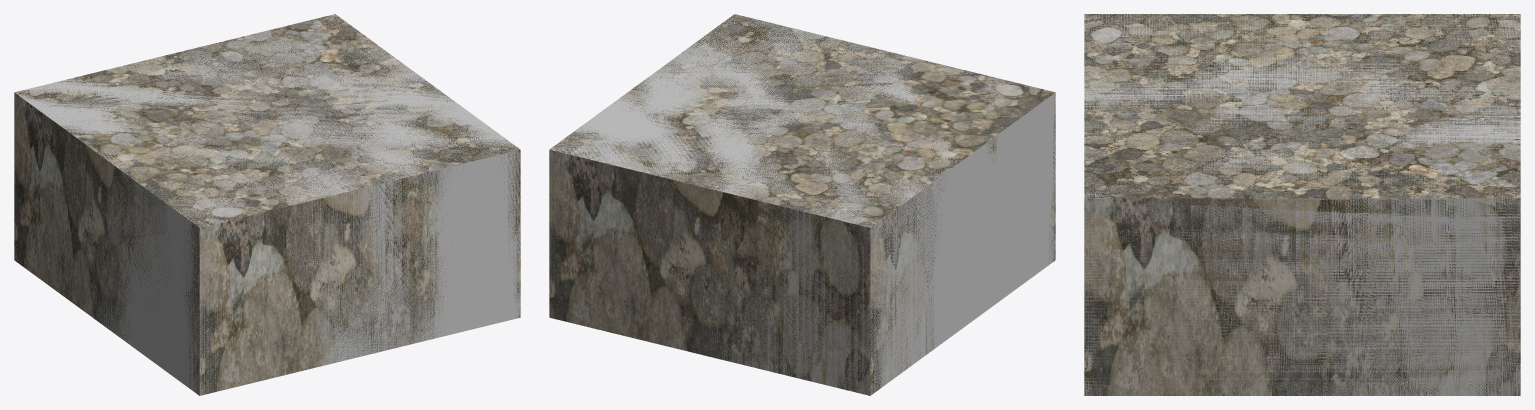
3 renders of one model, left to right at view 1: azimuth 30°, elevation 25°; view 2: azimuth 150°, elevation 25°; view 3: azimuth 270°, elevation 25°, orthographic. The views are drawn at different scales.
Visible parts, largest first — view 1: SM_Floor_2x2, SM_Floor_2x2_ConvexHulls; view 2: SM_Floor_2x2, SM_Floor_2x2_ConvexHulls; view 3: SM_Floor_2x2, SM_Floor_2x2_ConvexHulls.
Part boxes in pixels (bbox=[...]): SM_Floor_2x2: bbox=[14, 14, 520, 395]; SM_Floor_2x2_ConvexHulls: bbox=[14, 14, 520, 395]; SM_Floor_2x2: bbox=[549, 14, 1055, 395]; SM_Floor_2x2_ConvexHulls: bbox=[549, 14, 1055, 395]; SM_Floor_2x2: bbox=[1084, 14, 1520, 395]; SM_Floor_2x2_ConvexHulls: bbox=[1084, 14, 1520, 395].
Size of the model in its own units: 200 by 200 by 100.
Materials: 2 (1 with a texture image).
